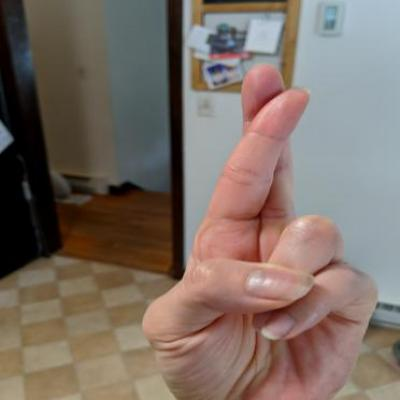hand: (135, 56, 384, 399)
